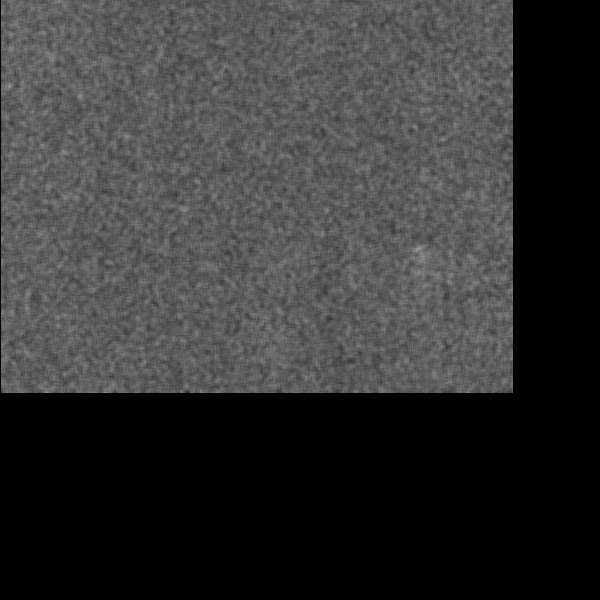spark: (145, 163, 181, 351), (133, 3, 162, 179), (409, 188, 460, 263), (79, 21, 114, 106), (54, 90, 88, 151)
